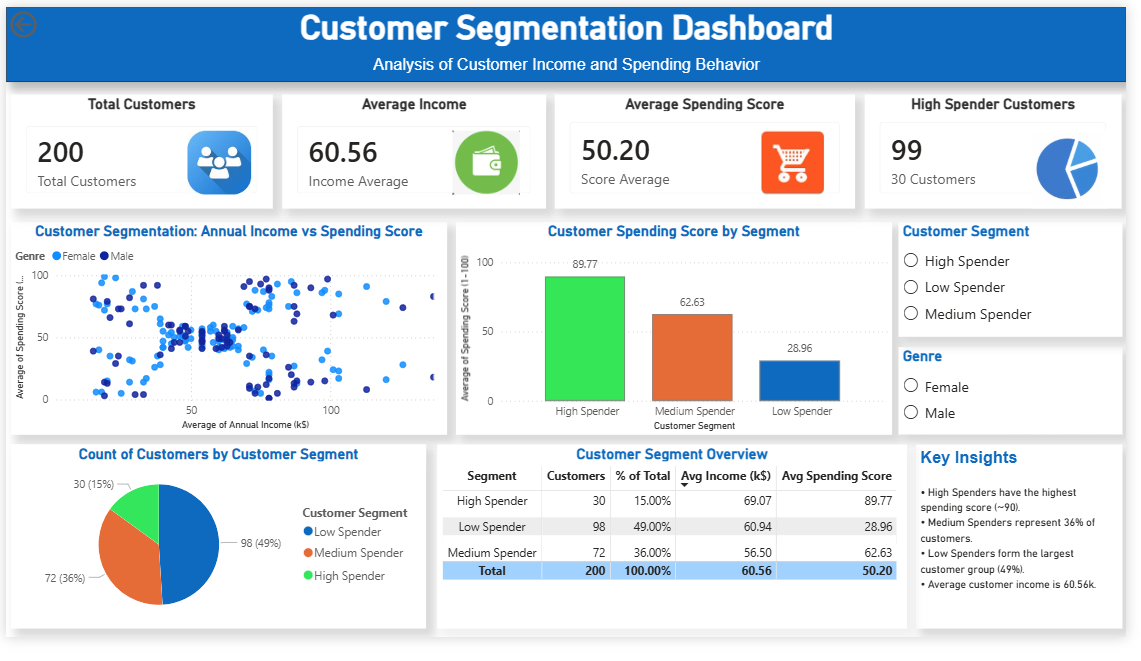

Layout of this report page (visuals, bound fields, positions):
{"tool":"powerbi","page":{"name":"Page 1","canvas":[1280,720],"ordinal":0},"visuals":[{"type":"scatterChart","title":"Customer Segmentation: Annual Income vs Spending Score","fields":{"X":["Avg(Mall_Customers.Annual Income (k$))"],"Y":["Avg(Mall_Customers.Spending Score (1-100))"],"Category":["Mall_Customers.CustomerID"],"Series":["Mall_Customers.Genre"]},"box":[5.5,245.6,498.1,242.9],"z":0},{"type":"pieChart","title":"Count of Customers by Customer Segment","fields":{"Category":["Mall_Customers.Customer Segment"],"Y":["CountNonNull(Mall_Customers.CustomerID)"]},"box":[5.7,500,461.4,210],"z":1000},{"type":"clusteredColumnChart","title":"Customer Spending Score by Segment","fields":{"Category":["Mall_Customers.Customer Segment"],"Y":["Avg(Mall_Customers.Spending Score (1-100))"]},"box":[514.6,245.6,498.1,242.9],"z":2000},{"type":"textbox","title":"Customer Segmentation Dashboard","box":[0,0,1280,85.7],"z":3000},{"type":"cardVisual","title":"Total Customers","fields":{"Data":["CountNonNull(Mall_Customers.CustomerID)"]},"box":[5.5,100.2,299.1,130.4],"z":4000},{"type":"listSlicer","fields":{"Values":["Mall_Customers.Genre"]},"box":[1020,388.6,255.7,100],"z":5000},{"type":"cardVisual","title":"Average Income","fields":{"Data":["Avg(Mall_Customers.Annual Income (k$))"]},"box":[315.6,100.2,301.9,130.4],"z":6000},{"type":"cardVisual","title":"Average Spending Score","fields":{"Data":["Avg(Mall_Customers.Spending Score (1-100))"]},"box":[627.1,100.2,343.1,130.4],"z":7000},{"type":"listSlicer","fields":{"Values":["Mall_Customers.Customer Segment"]},"box":[1020,245.7,255.7,131.4],"z":8000},{"type":"image","box":[199,141.3,90.6,72.7],"z":9000},{"type":"image","box":[852.1,141.3,90.6,72.7],"z":10000},{"type":"image","box":[492.6,141.3,112.5,72.7],"z":11000},{"type":"textbox","box":[1020,500,255.7,210],"z":12000},{"type":"cardVisual","title":"High Spender Customers","fields":{"Data":["Max(Mall_Customers.Spending Score (1-100))"]},"box":[981.1,100.2,293.7,130.4],"z":13000},{"type":"image","box":[1170.5,141.3,91.9,89.2],"z":14000},{"type":"tableEx","title":"Customer Segment Overview","fields":{"Values":["Mall_Customers.Customer Segment","CountNonNull(Mall_Customers.CustomerID)","Mall_Customers.Total Customers","Avg(Mall_Customers.Annual Income (k$))","Avg(Mall_Customers.Spending Score (1-100))"]},"box":[478.6,500,534.3,210],"z":15000}]}

Visuals, with their boxes in screenshot pixels (x1, y1, x2, y2), scaled from the page's 1280x720 canvas onto the 1141x661 screenshot:
"Customer Segmentation: Annual Income vs Spending Score" scatterChart: detection(5, 225, 449, 448)
"Count of Customers by Customer Segment" pieChart: detection(5, 459, 416, 652)
"Customer Spending Score by Segment" clusteredColumnChart: detection(459, 225, 903, 448)
"Customer Segmentation Dashboard" textbox: detection(0, 0, 1140, 79)
"Total Customers" cardVisual: detection(5, 92, 272, 212)
listSlicer - Mall_Customers.Genre: detection(909, 357, 1137, 449)
"Average Income" cardVisual: detection(281, 92, 550, 212)
"Average Spending Score" cardVisual: detection(559, 92, 865, 212)
listSlicer - Mall_Customers.Customer Segment: detection(909, 226, 1137, 346)
image: detection(177, 130, 258, 196)
image: detection(760, 130, 840, 196)
image: detection(439, 130, 539, 196)
textbox: detection(909, 459, 1137, 652)
"High Spender Customers" cardVisual: detection(875, 92, 1136, 212)
image: detection(1043, 130, 1125, 212)
"Customer Segment Overview" tableEx: detection(427, 459, 903, 652)
